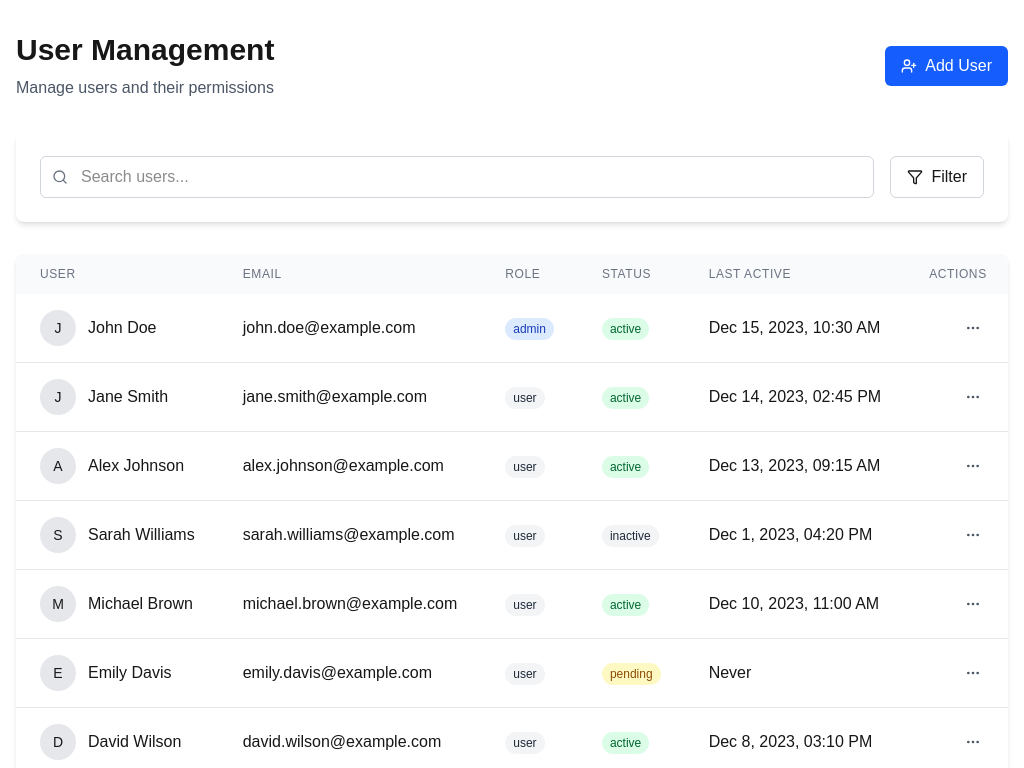
Test: UsersPage › opens the add user dialog
# Click the Add User button
Click the button "Add User" at (947, 66), box x1=885 y1=46 x2=1008 y2=86
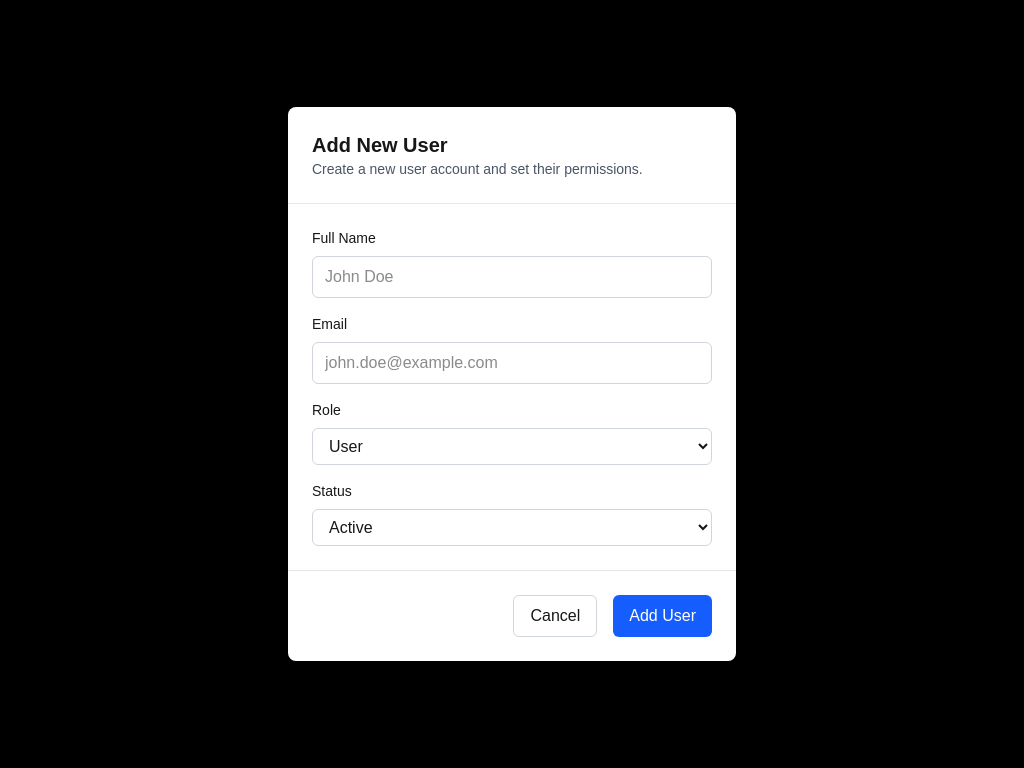
Result: the heading "Add New User" is shown at x1=312 y1=134 x2=448 y2=156
Result: the field labelled "Full Name" is shown at x1=312 y1=256 x2=712 y2=298
Result: the field labelled "Email" is shown at x1=312 y1=342 x2=712 y2=384
